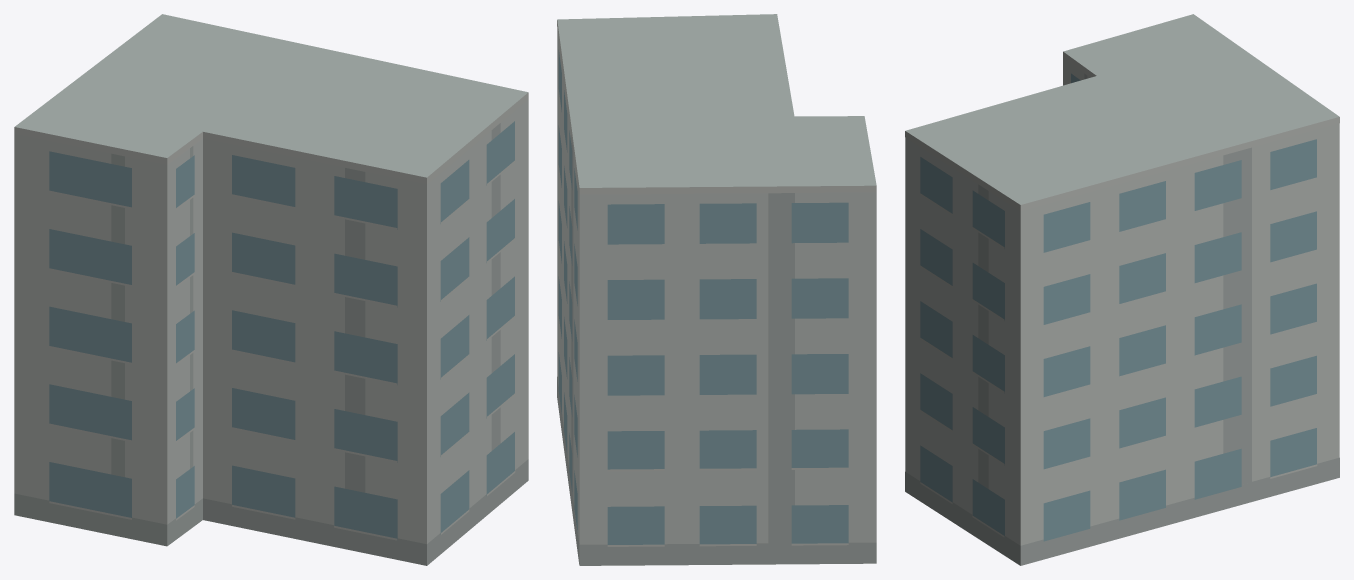
Rendered from survey-upis-32893652.glb.
The picture shows the model from 3 angles, left to right: view 1: azimuth 30°, elevation 25°; view 2: azimuth 150°, elevation 25°; view 3: azimuth 270°, elevation 25°; orthographic projection. The views are drawn at different scales.
Parts seen in each view (by area): view 1: survey-upis-32893652.tmp; view 2: survey-upis-32893652.tmp; view 3: survey-upis-32893652.tmp.
Boxes of the visible parts, box(x1,y1,x2,y2) form: survey-upis-32893652.tmp: box(14, 14, 528, 565); survey-upis-32893652.tmp: box(557, 14, 876, 565); survey-upis-32893652.tmp: box(905, 14, 1339, 565).
Bounding box in the file's own units: 15.56 × 13.7 × 14.97.
